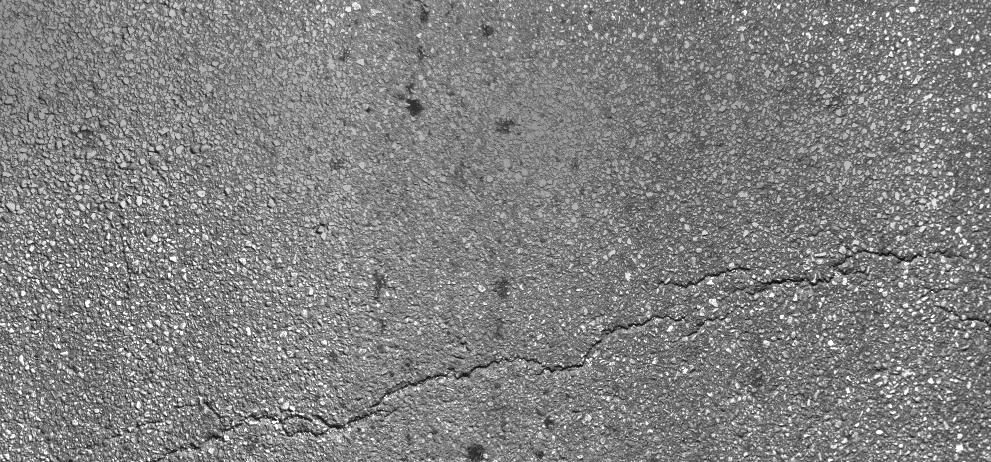crack: (382, 309, 719, 399), (146, 381, 417, 462), (645, 243, 991, 297)
